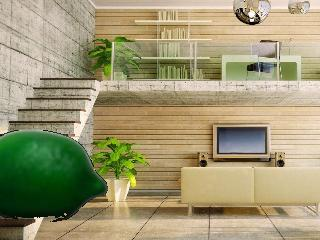lime: (0, 130, 109, 223)
